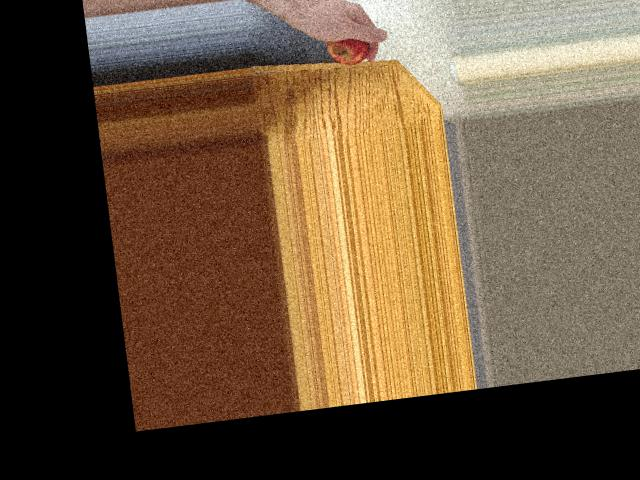apple: (331, 25, 376, 70)
